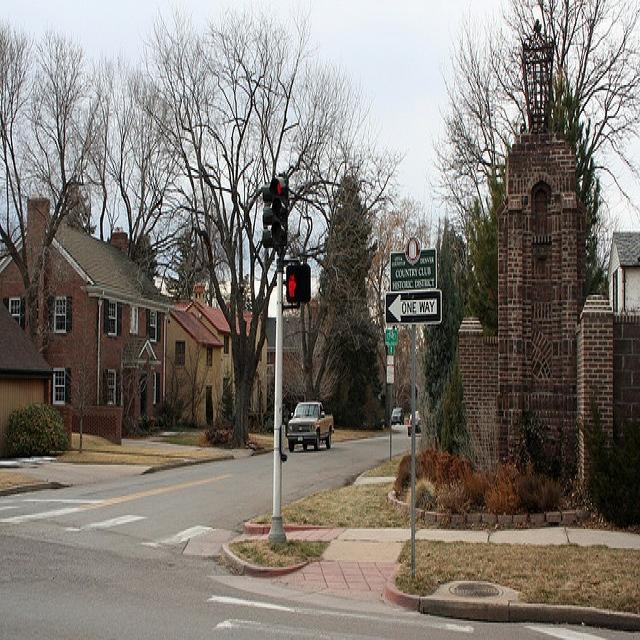car: (407, 408, 420, 433), (389, 404, 403, 423)
pole: (270, 258, 287, 540), (406, 324, 417, 576)
truck: (285, 397, 332, 451)
